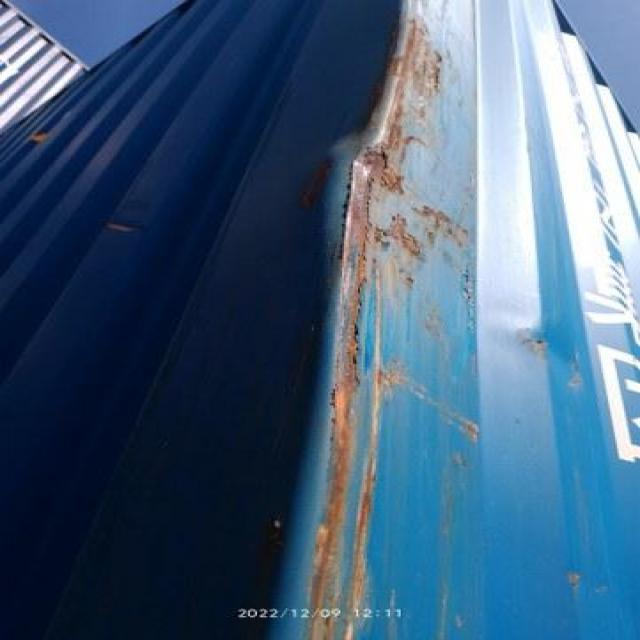Rust: (332, 15, 448, 609)
